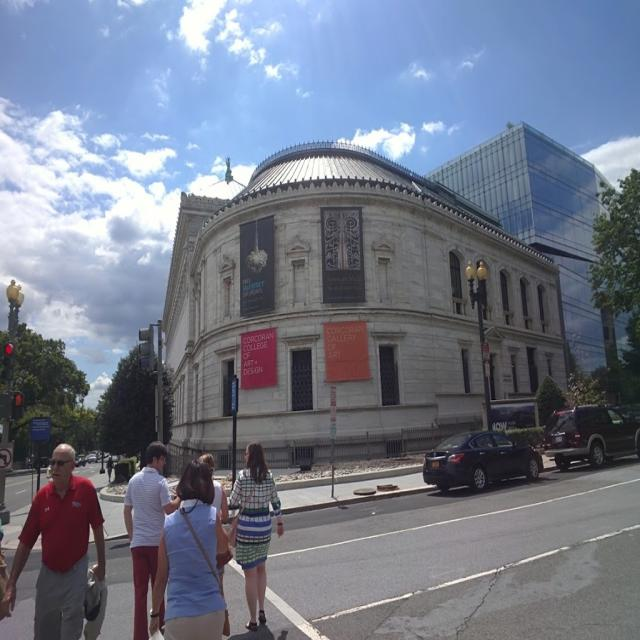car: (421, 426, 541, 494)
